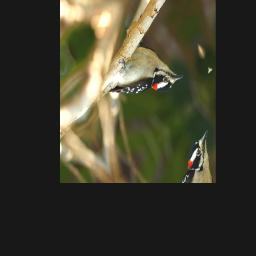Woodpecker: (87, 20, 185, 149)
